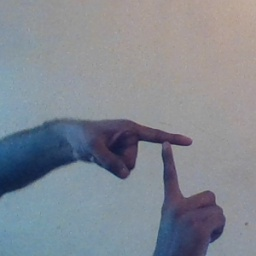T: (104, 107, 224, 227)
